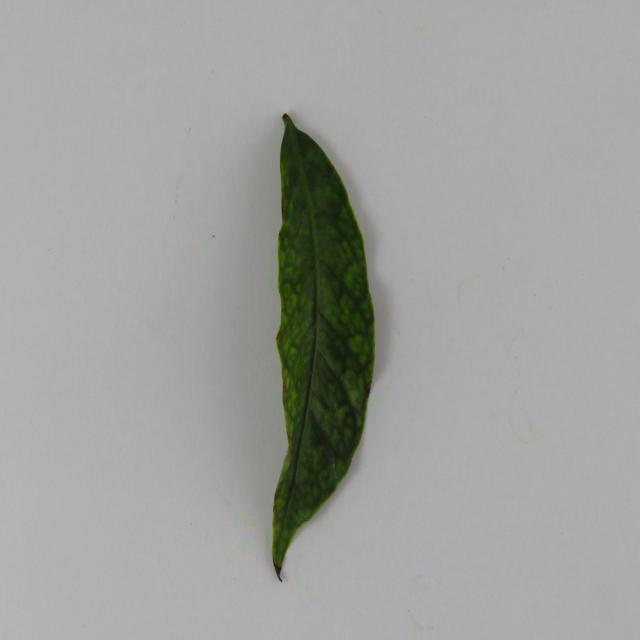DeficienciaNutricional-Manganeso: (272, 115, 375, 578)
